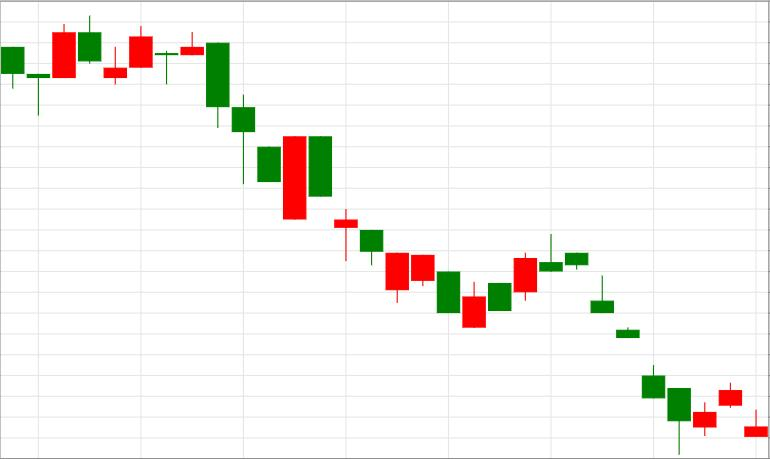bullish_engulfing_rise: (79, 15, 306, 220)
hammer_rise: (566, 251, 691, 455)
